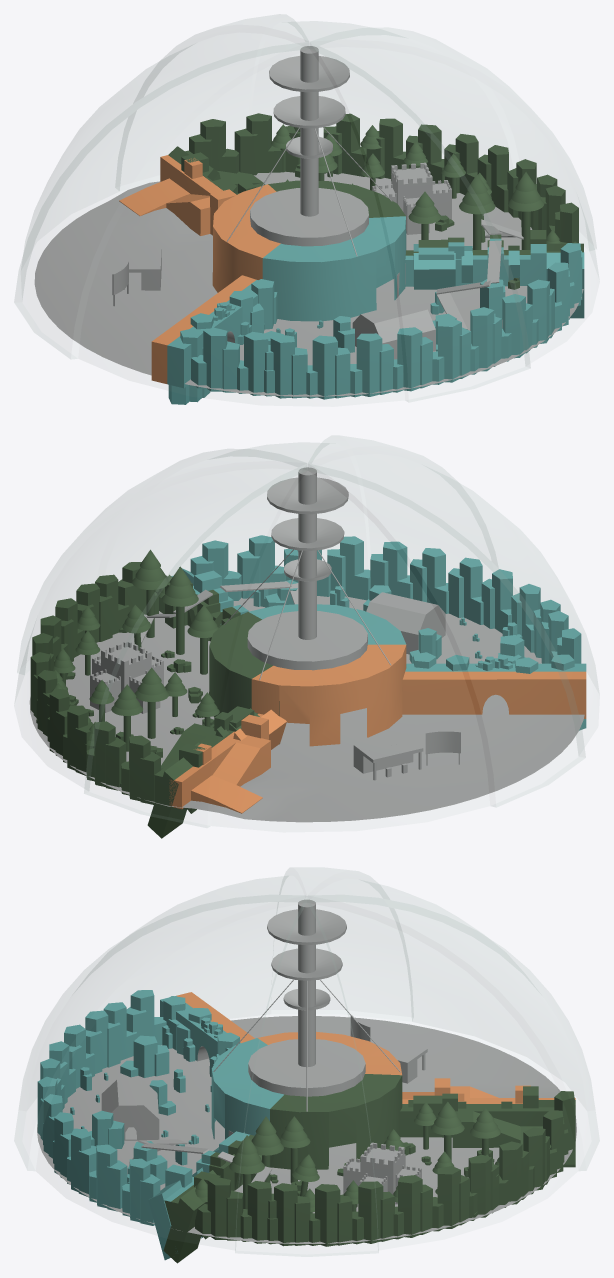
File: Blockout.fbx
3 renders of one model, top to bottom at view 1: azimuth 30°, elevation 25°; view 2: azimuth 150°, elevation 25°; view 3: azimuth 270°, elevation 25°, orthographic. The views are drawn at different scales.
Parts seen in each view (by area): view 1: polySurface1213; view 2: polySurface1213; view 3: polySurface1213.
Boxes of the visible parts, left/top/right/bottom form: polySurface1213: left=14, top=14, right=598, bottom=404; polySurface1213: left=15, top=436, right=598, bottom=838; polySurface1213: left=14, top=868, right=599, bottom=1263.
Size of the model in its own units: 1096 by 554 by 1097.
